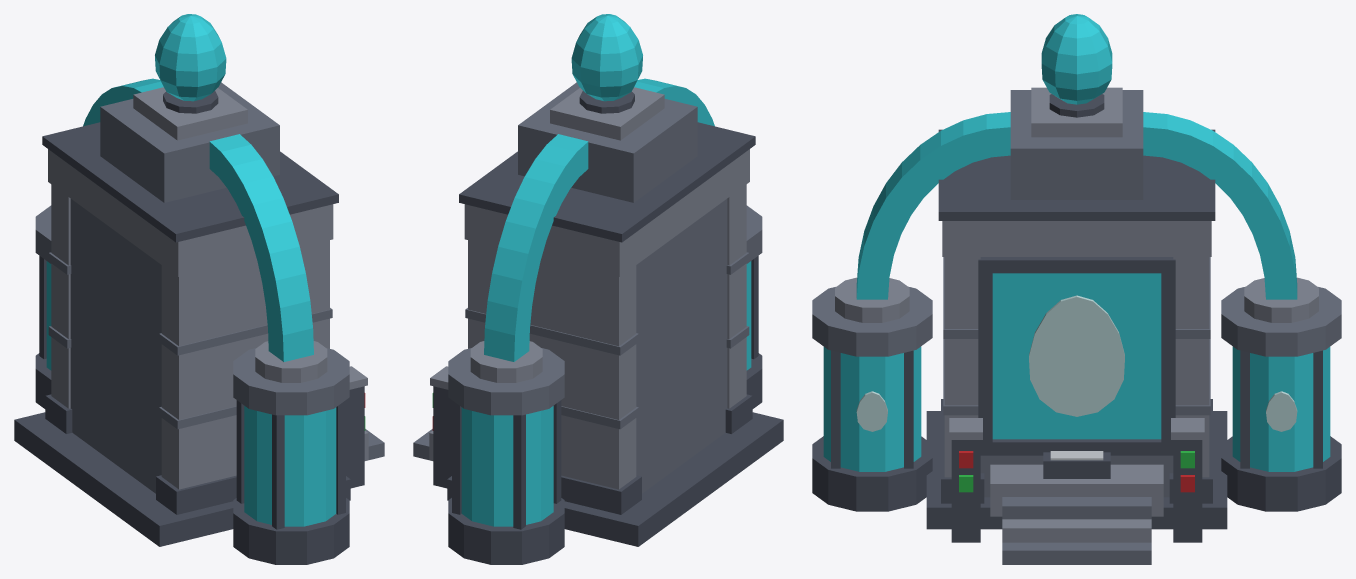
File: merge_machine.glb
The picture shows the model from 3 angles, left to right: view 1: azimuth 30°, elevation 25°; view 2: azimuth 150°, elevation 25°; view 3: azimuth 270°, elevation 25°; orthographic projection. The views are drawn at different scales.
Parts seen in each view (by area): view 1: merge_machine, Glow; view 2: merge_machine, Glow; view 3: merge_machine, Glow.
Part boxes in pixels (x1=…): merge_machine: x1=14, y1=82, x2=384, y2=564; Glow: x1=46, y1=14, x2=336, y2=526; merge_machine: x1=413, y1=82, x2=783, y2=564; Glow: x1=461, y1=14, x2=751, y2=526; merge_machine: x1=812, y1=87, x2=1341, y2=564; Glow: x1=823, y1=14, x2=1330, y2=471.
Size of the model in its own units: 2.6 by 4.3 by 4.4.
